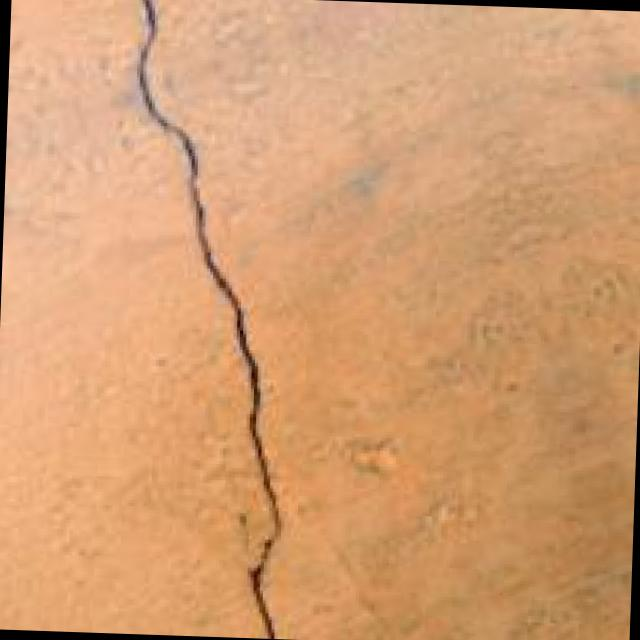crack: (85, 0, 350, 637)
